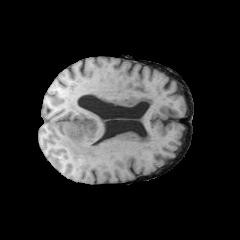glioma: (58, 110, 110, 170)
